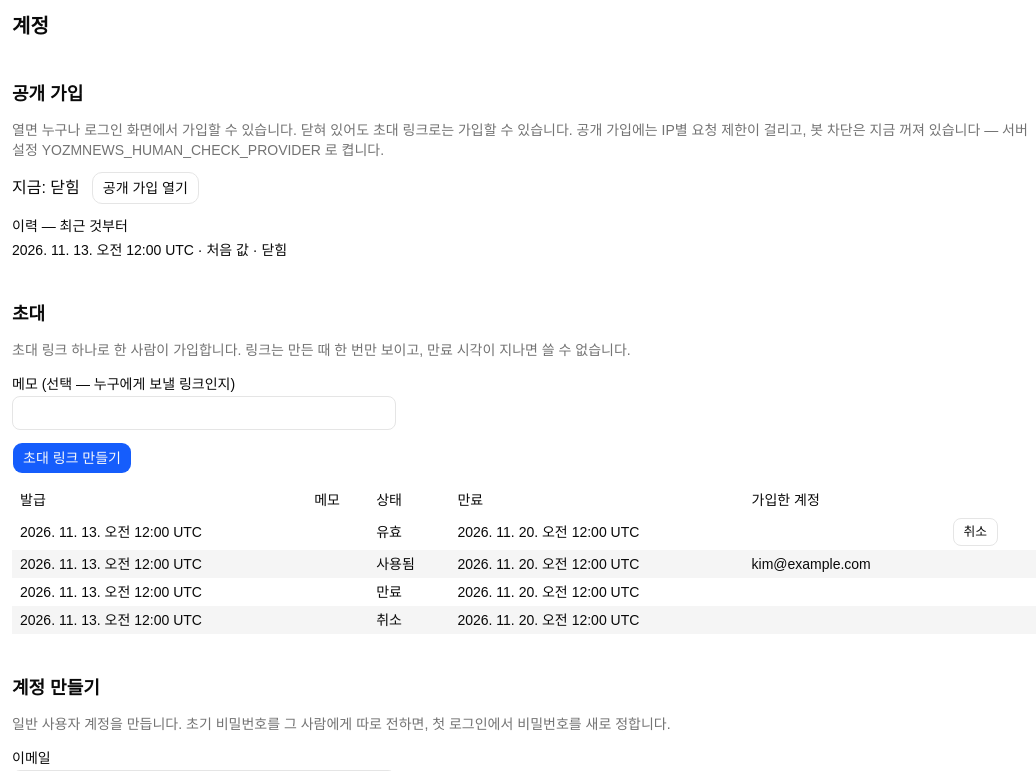
Test: AccountsPage › 목록은 상태 · 가입한 계정을 보이고, 유효한 초대만 취소할 수 있다
Expected: the row "2026. 11. 13. 오전 12:00 UTC 유효 2026. 11. 20. 오전 12:00 UTC 취소" is shown, [12,514,1035,550]
Expected: the row that starts with "2026. 11. 13. 오전 12:00 UTC" shows "사용됨", [376,556,415,572]
Step 1. Click the button "취소" → coordinates (975, 532), box [952,518,998,546]
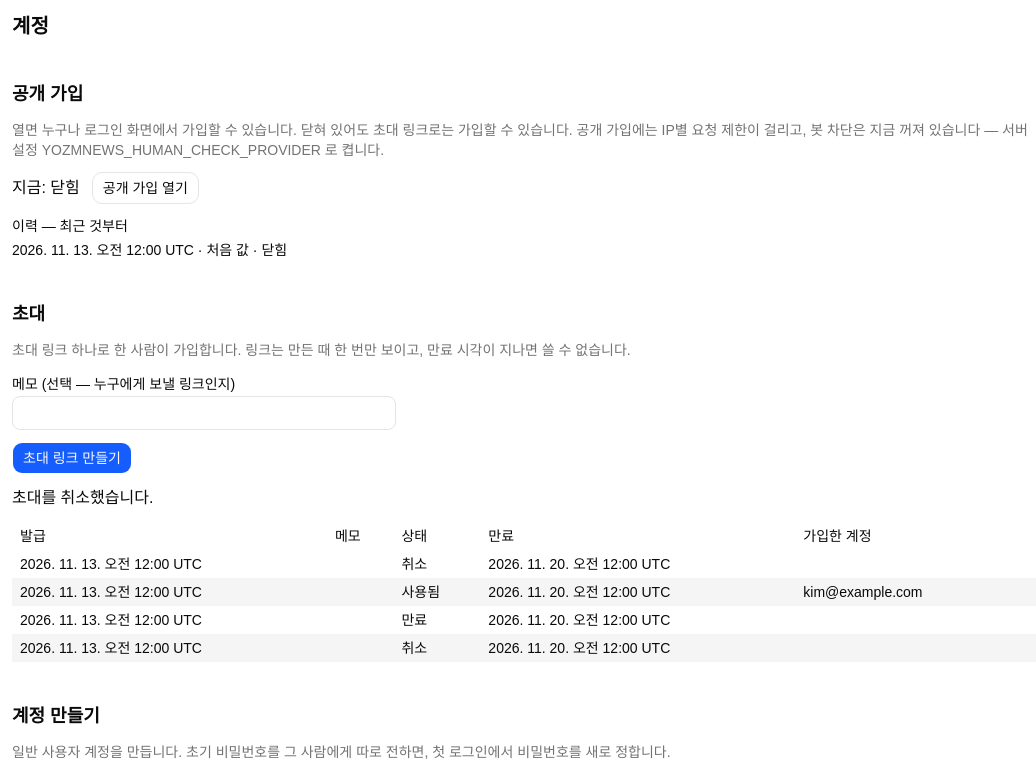
Now the message reads "초대를 취소했습니다.", box [12,489,153,506]
